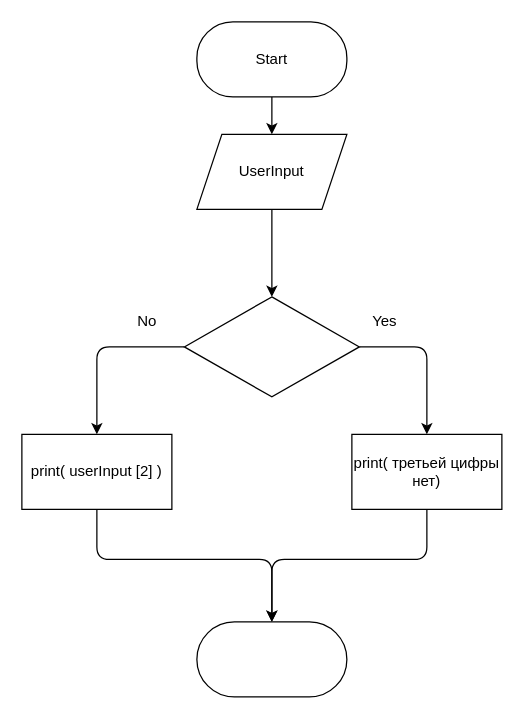
Some shapes in this 524 by 719 pixel diagram are drawn without their labels. Here are the shapes that lost their labels. From the top down, the box of each, then its label:
(183, 296, 359, 397): userInput.Length < 3
(196, 621, 347, 697): End
